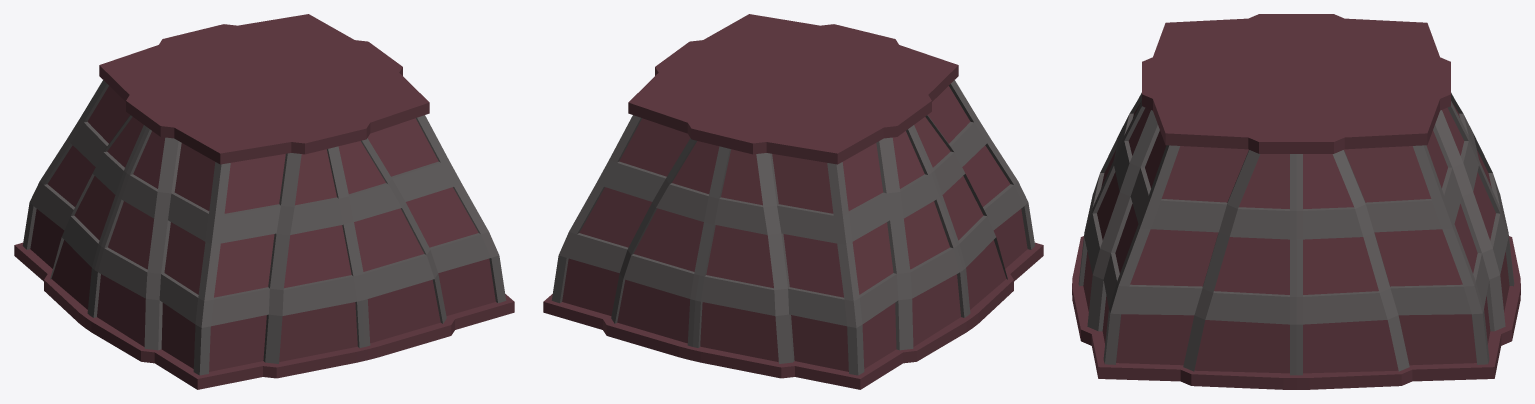
File: skyscraper2-part-shrinkage.fbx
3 views of the same model, side by side, from view 1: azimuth 30°, elevation 25°; view 2: azimuth 150°, elevation 25°; view 3: azimuth 270°, elevation 25° (orthographic). The views are drawn at different scales.
Parts seen in each view (by area): view 1: skyscraper2-part-shrinkage; view 2: skyscraper2-part-shrinkage; view 3: skyscraper2-part-shrinkage.
Boxes of the visible parts, left/top/right/bottom form: skyscraper2-part-shrinkage: left=14, top=14, right=514, bottom=389; skyscraper2-part-shrinkage: left=543, top=14, right=1043, bottom=389; skyscraper2-part-shrinkage: left=1072, top=14, right=1520, bottom=389.
Size of the model in its own units: 20.6 by 11 by 20.6.
